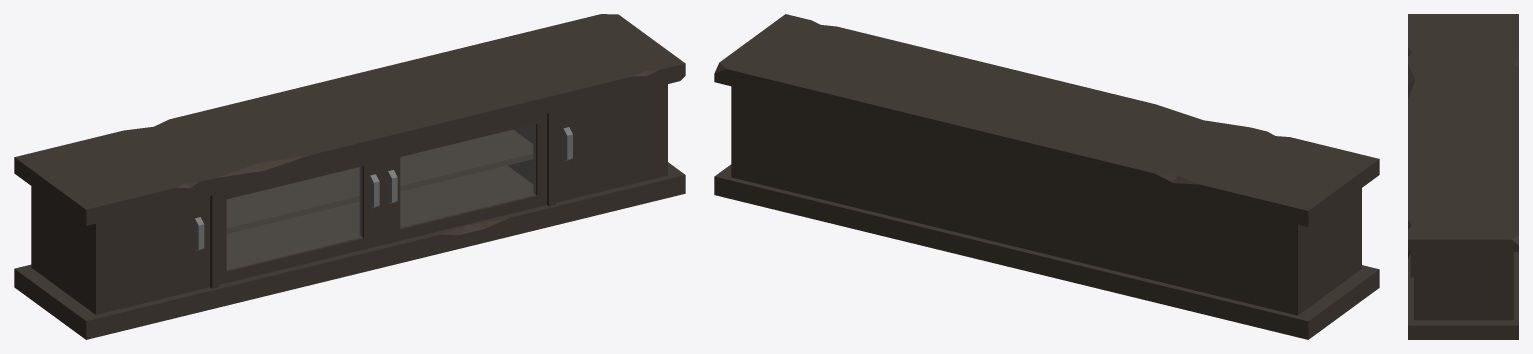
The model's file is SM_Prop_TVCabinet_01.fbx.
3 views of the same model, side by side, from view 1: azimuth 30°, elevation 25°; view 2: azimuth 150°, elevation 25°; view 3: azimuth 270°, elevation 25° (orthographic). The views are drawn at different scales.
Parts seen in each view (by area): view 1: SM_Prop_TVCabinet_01; view 2: SM_Prop_TVCabinet_01; view 3: SM_Prop_TVCabinet_01.
Part boxes in pixels (left/top/right/bottom): SM_Prop_TVCabinet_01: left=14, top=14, right=685, bottom=339; SM_Prop_TVCabinet_01: left=714, top=14, right=1379, bottom=339; SM_Prop_TVCabinet_01: left=1408, top=14, right=1518, bottom=339.
Bounding box in the file's own units: 289 × 60.06 × 60.06.
